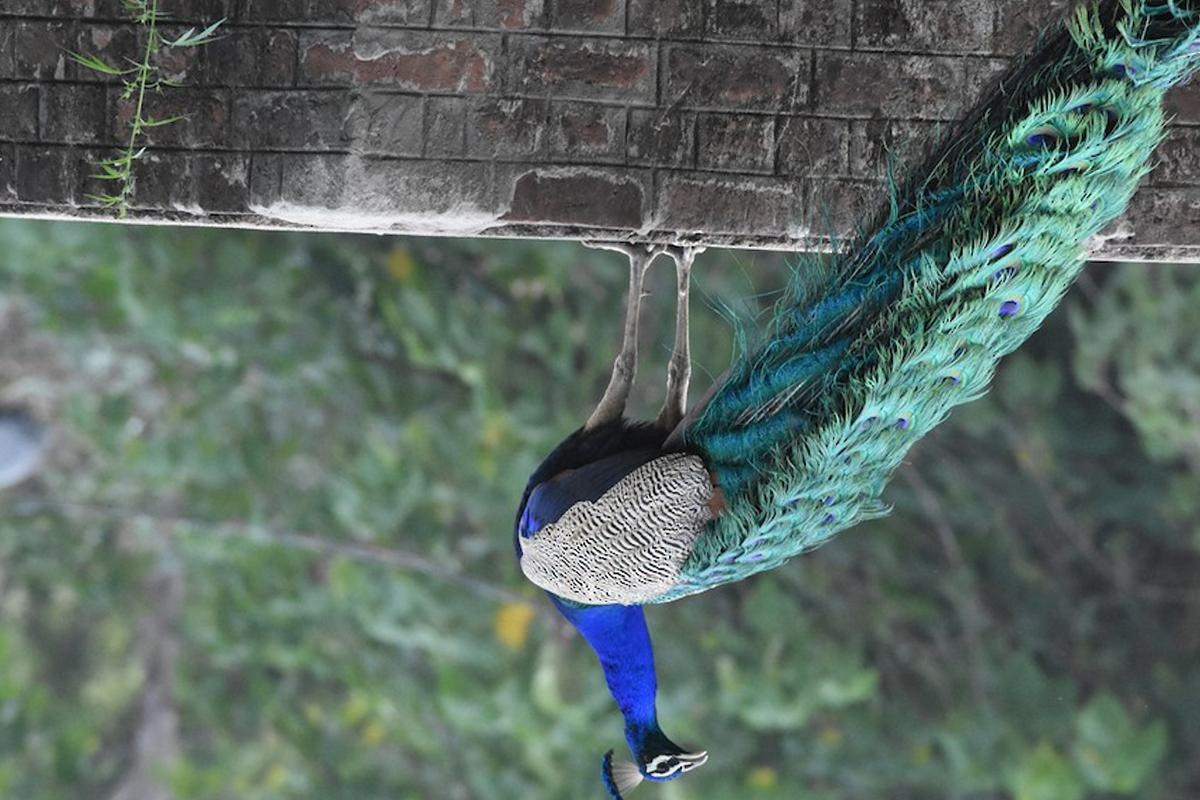peacock: (499, 1, 1200, 792)
